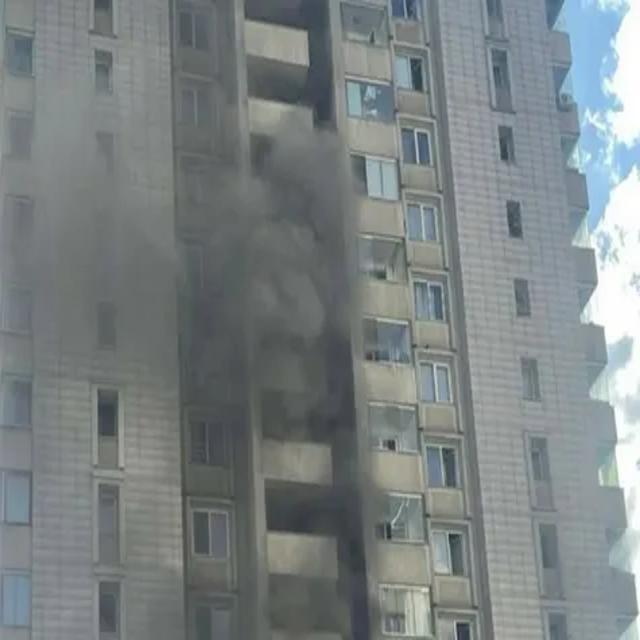Smoke: (68, 96, 356, 434)
